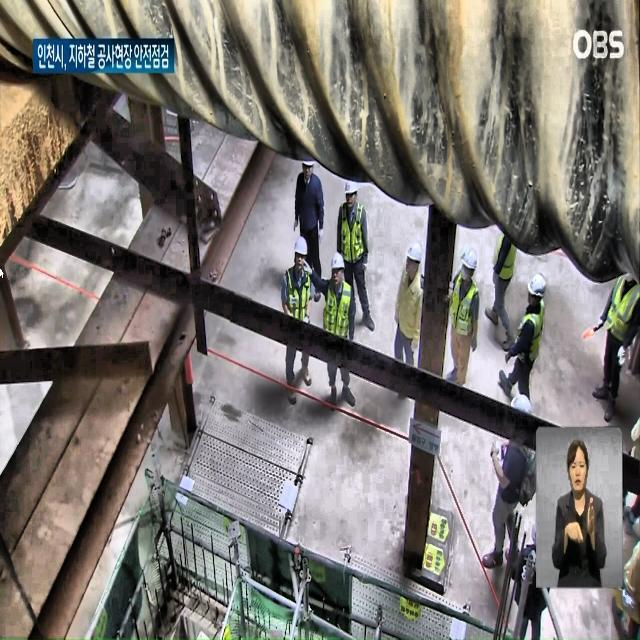safety_helmet: (286, 228, 310, 264), (344, 178, 366, 214), (530, 273, 555, 302), (402, 240, 426, 266), (460, 248, 482, 274), (328, 253, 348, 280)
safety_jacket: (285, 288, 325, 348), (324, 281, 355, 353), (520, 304, 547, 368), (339, 207, 369, 264), (611, 270, 634, 340), (452, 271, 477, 335)
